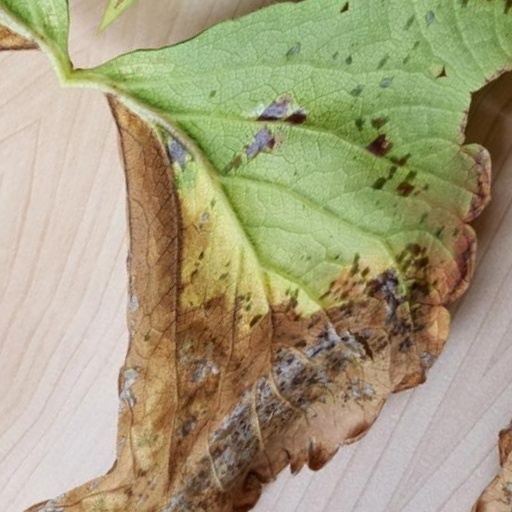Angular Leafspot: (11, 0, 469, 511)
